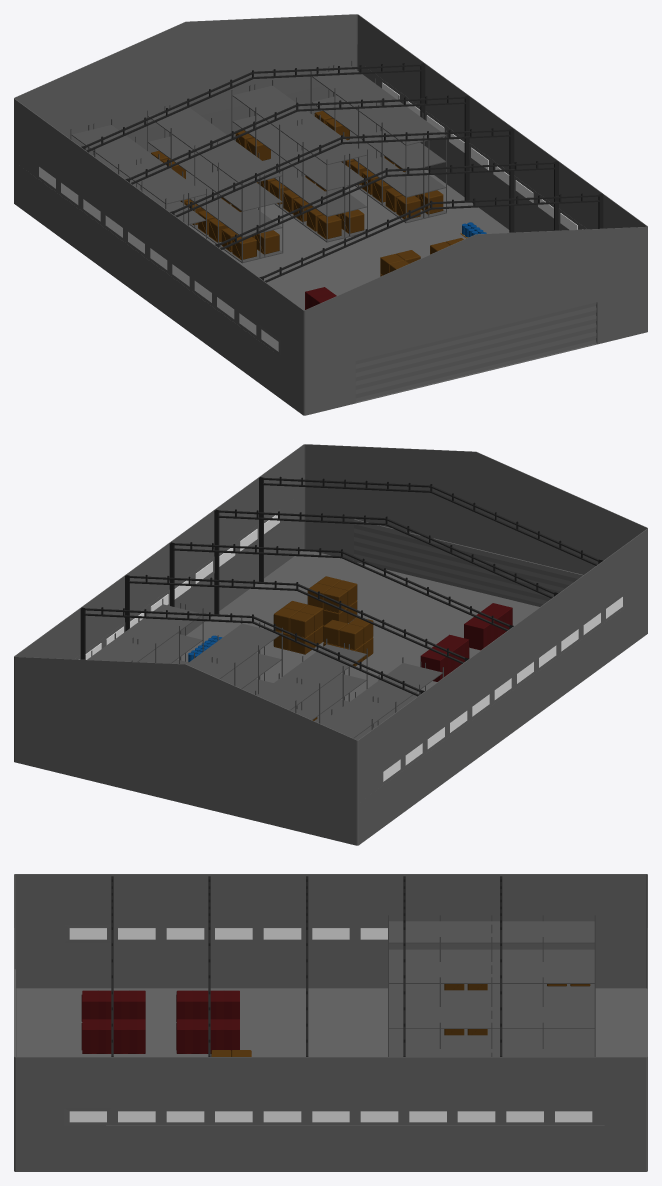
File: warehouse.glb
3 renders of one model, top to bottom at view 1: azimuth 30°, elevation 25°; view 2: azimuth 150°, elevation 25°; view 3: azimuth 270°, elevation 25°, orthographic. The views are drawn at different scales.
Visible parts, largest first — view 1: warehouse, pillar, rack.006, rack.007, rack, rack.008, windows; view 2: warehouse, pillar, rack.007, rack, rack.006, rack.008, windows, container.001, container.003; view 3: warehouse, rack.007, rack.008, windows, rack.006, pillar, container.001, container.003, container.002, container, rack.
Boxes of the visible parts, left/top/right/bottom form: warehouse: left=14, top=14, right=647, bottom=415; pillar: left=81, top=63, right=603, bottom=282; rack.006: left=231, top=80, right=367, bottom=242; rack.007: left=147, top=105, right=283, bottom=263; rack: left=310, top=60, right=446, bottom=223; rack.008: left=70, top=119, right=206, bottom=238; windows: left=39, top=82, right=582, bottom=351; warehouse: left=14, top=444, right=647, bottom=845; pillar: left=80, top=476, right=602, bottom=696; rack.007: left=255, top=638, right=367, bottom=723; rack: left=87, top=598, right=203, bottom=664; rack.006: left=186, top=618, right=282, bottom=695; rack.008: left=320, top=657, right=443, bottom=740; windows: left=79, top=515, right=622, bottom=781; container.001: left=464, top=603, right=512, bottom=650; container.003: left=420, top=634, right=469, bottom=681; warehouse: left=14, top=874, right=647, bottom=1171; rack.007: left=388, top=956, right=595, bottom=1035; rack.008: left=388, top=915, right=595, bottom=990; windows: left=69, top=928, right=592, bottom=1122; rack.006: left=388, top=1001, right=595, bottom=1048; pillar: left=111, top=876, right=502, bottom=1056; container.001: left=81, top=1019, right=145, bottom=1053; container.003: left=176, top=1019, right=239, bottom=1053; container.002: left=81, top=990, right=145, bottom=1021; container: left=176, top=990, right=239, bottom=1021; rack: left=388, top=1043, right=595, bottom=1056.
Bounding box in the file's own units: 41.74 × 16.2 × 60.99.
